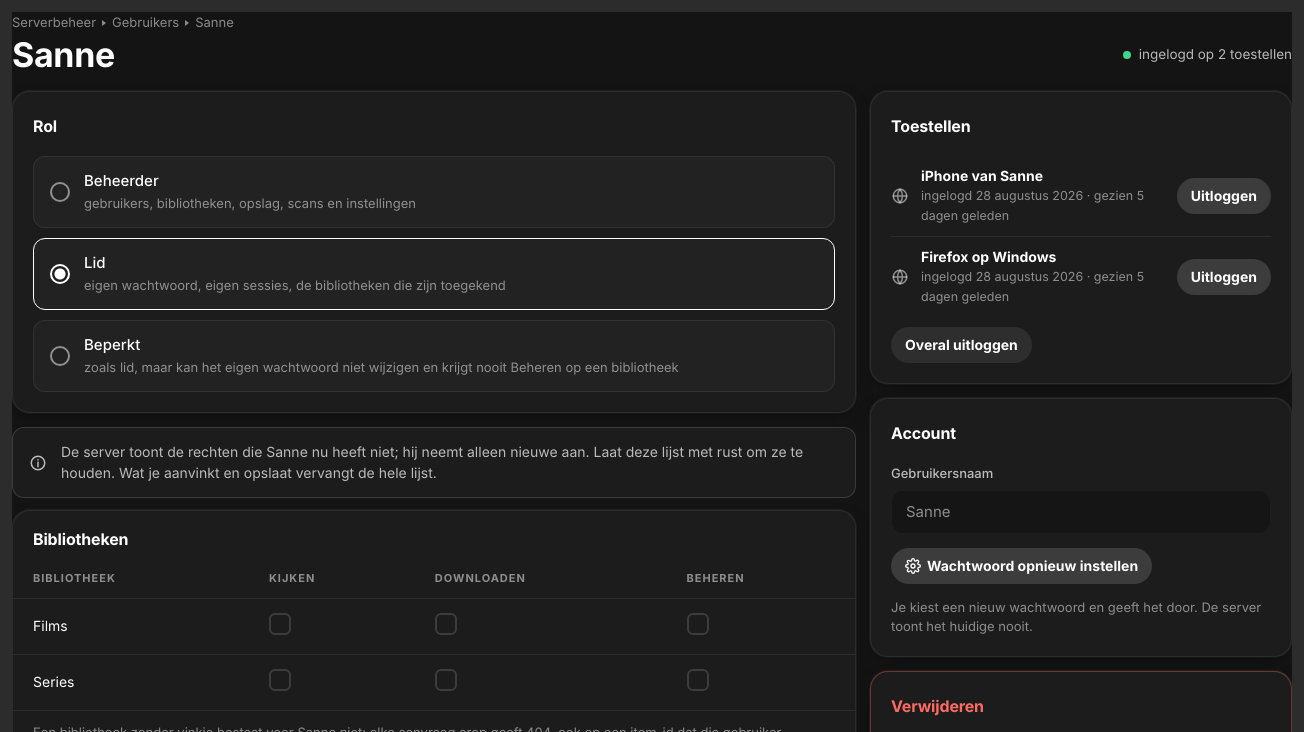
Test: wachtwoord opnieuw instellen › stuurt niets voor een te kort wachtwoord
Click the button "Wachtwoord opnieuw instellen": coordinates (1022, 566) [891, 548, 1152, 584]
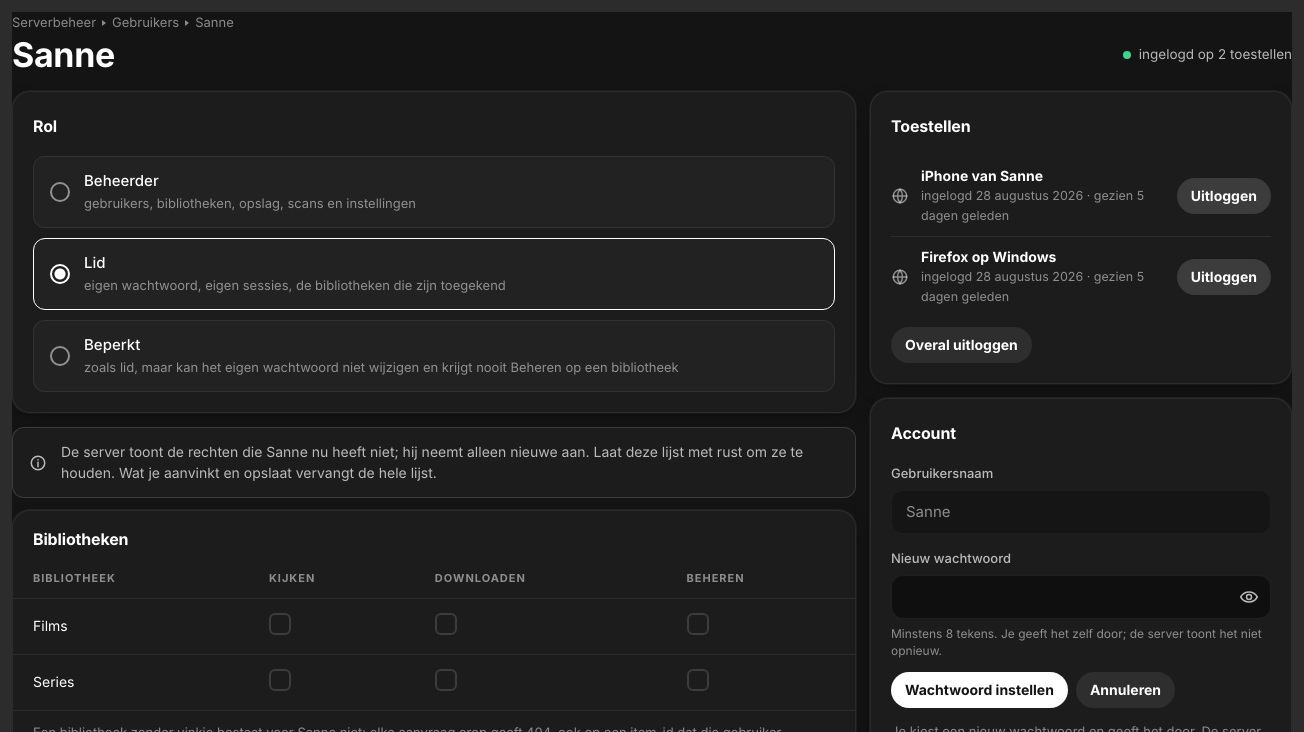
In the password field labelled "Nieuw wachtwoord": coordinates (1081, 597) [891, 575, 1271, 619], type "kort"
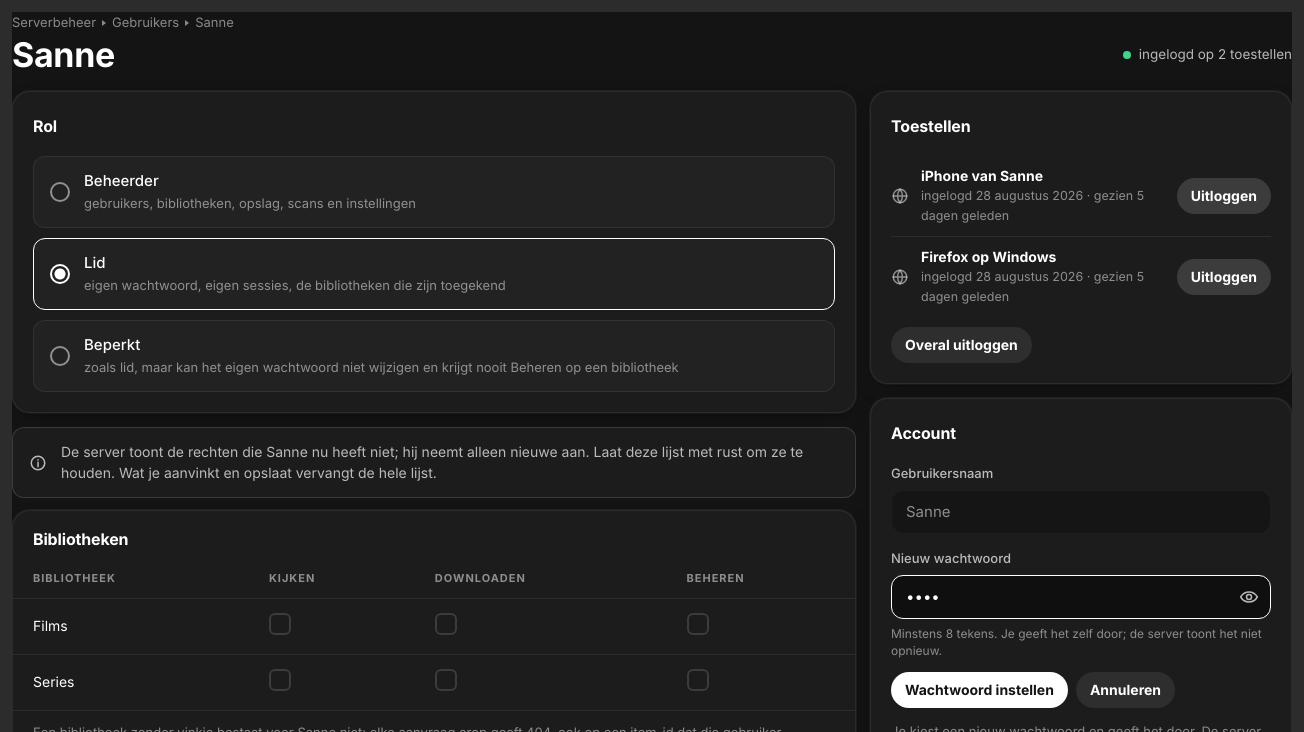
Click the button "Wachtwoord instellen": coordinates (979, 690) [891, 672, 1068, 708]
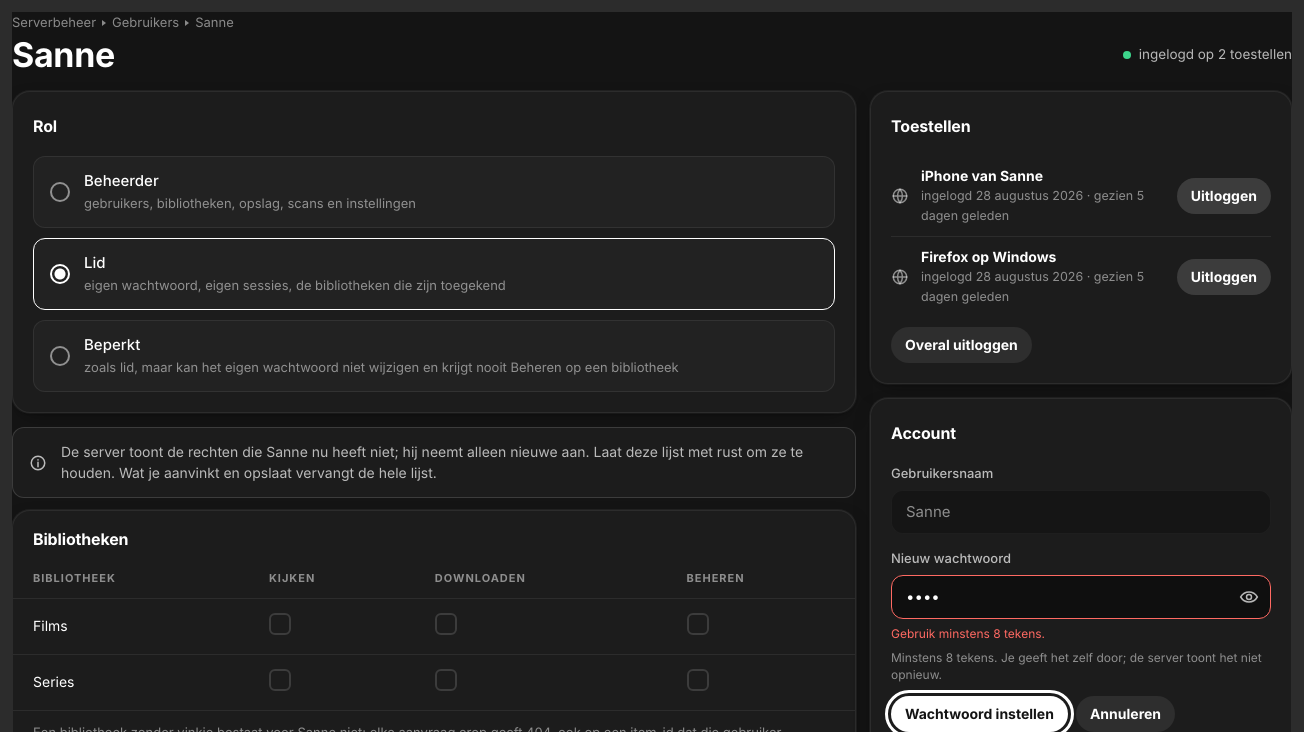
Result: the text "Gebruik minstens 8 tekens." is shown at [891, 626, 1045, 641]
